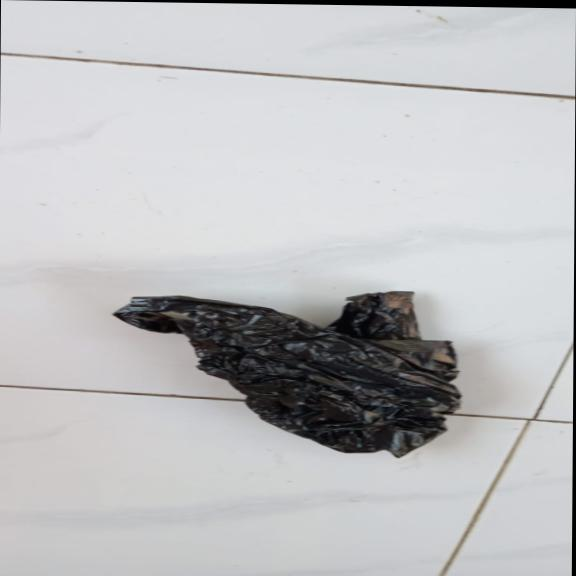Plastik: (111, 286, 462, 461)
